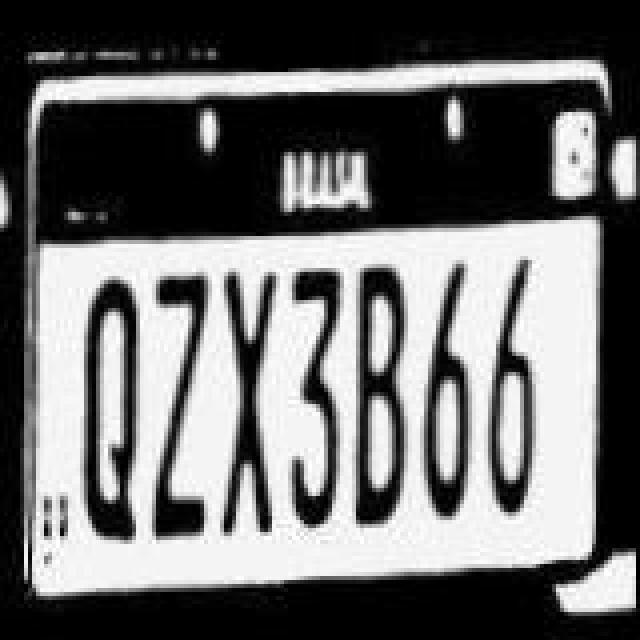3: (286, 264, 346, 528)
6: (476, 254, 540, 518), (418, 256, 478, 520)
B: (348, 260, 412, 528)
Q: (78, 274, 146, 546)
X: (214, 266, 282, 542)
Z: (146, 270, 214, 546)
